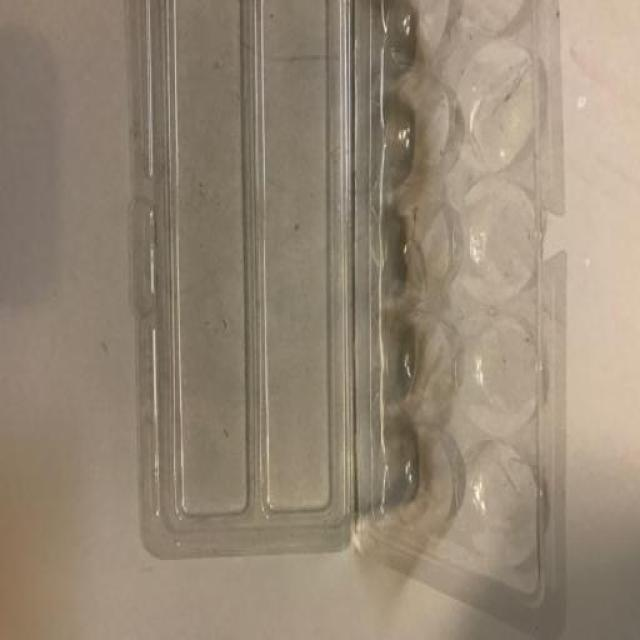Plastic: (116, 0, 569, 640)
